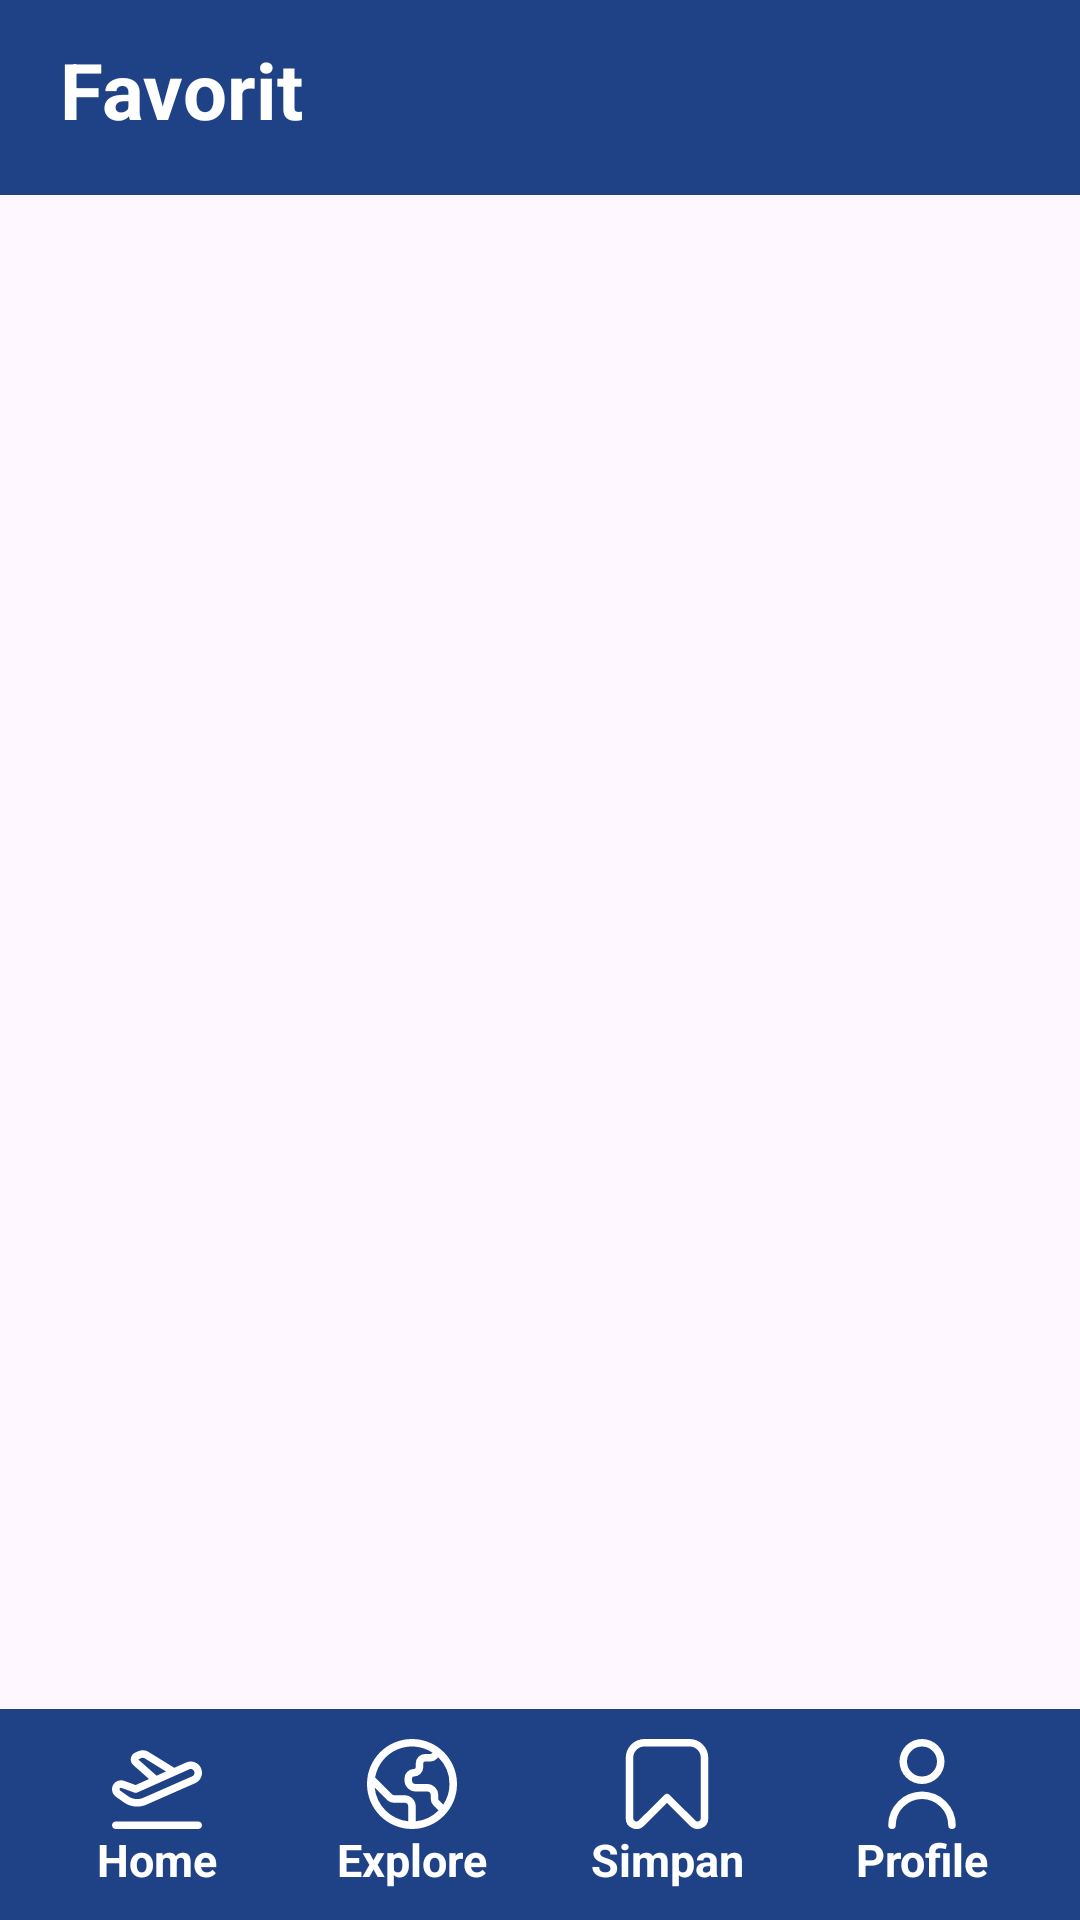

Icon click points for this 1080px x 1920px phone screenshot, format point (x, y):
plane: point (157, 1789)
world: point (412, 1784)
